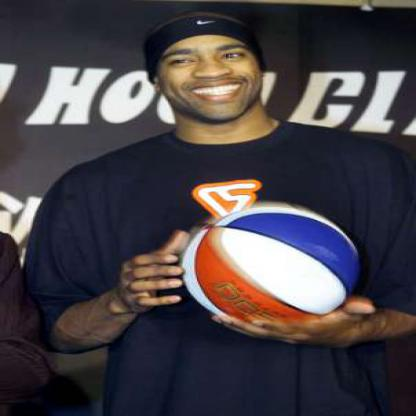face: (158, 15, 264, 123)
